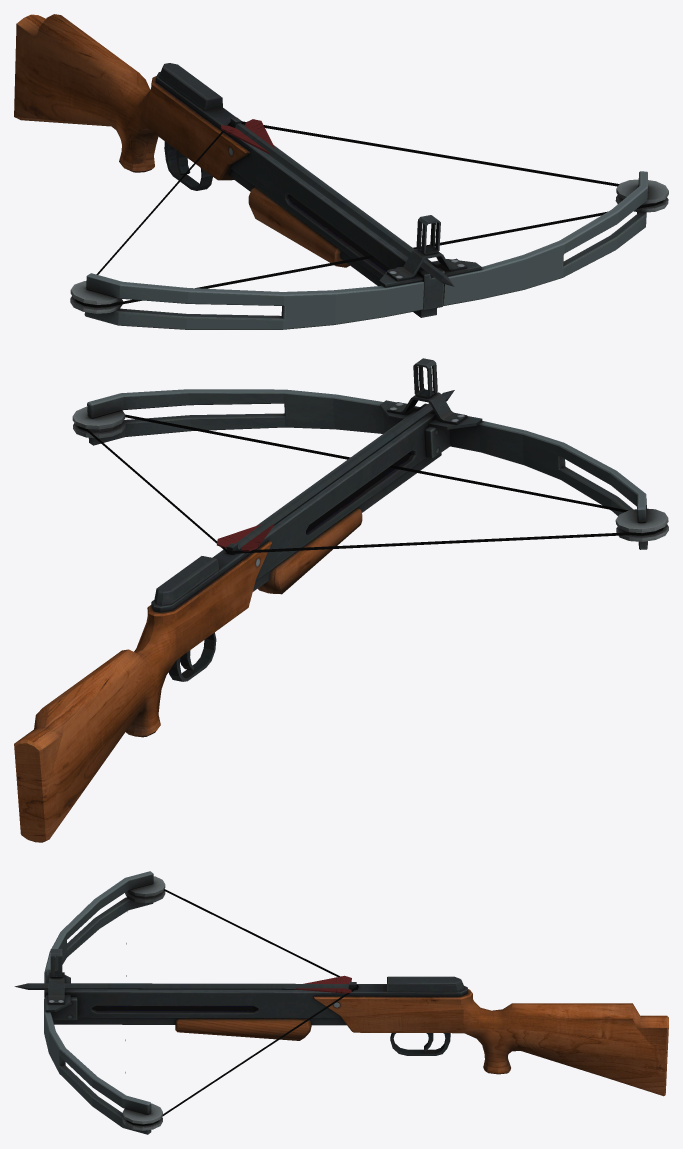
Rendered from Fishing Gun.FBX.
The picture shows the model from 3 angles, top to bottom: view 1: azimuth 30°, elevation 25°; view 2: azimuth 150°, elevation 25°; view 3: azimuth 270°, elevation 25°; orthographic projection. The views are drawn at different scales.
Parts seen in each view (by area): view 1: Fishing Gun, Arrow; view 2: Fishing Gun, Arrow; view 3: Fishing Gun, Arrow.
Part boxes in pixels (left/top/right/bottom): Fishing Gun: left=14, top=14, right=668, bottom=329; Arrow: left=220, top=119, right=454, bottom=286; Fishing Gun: left=14, top=358, right=668, bottom=842; Arrow: left=217, top=390, right=454, bottom=551; Fishing Gun: left=44, top=871, right=668, bottom=1134; Arrow: left=14, top=975, right=351, bottom=993.
Bounding box in the file's own units: 0.6392 × 0.1958 × 0.7995.
1 material, 1 textured.
